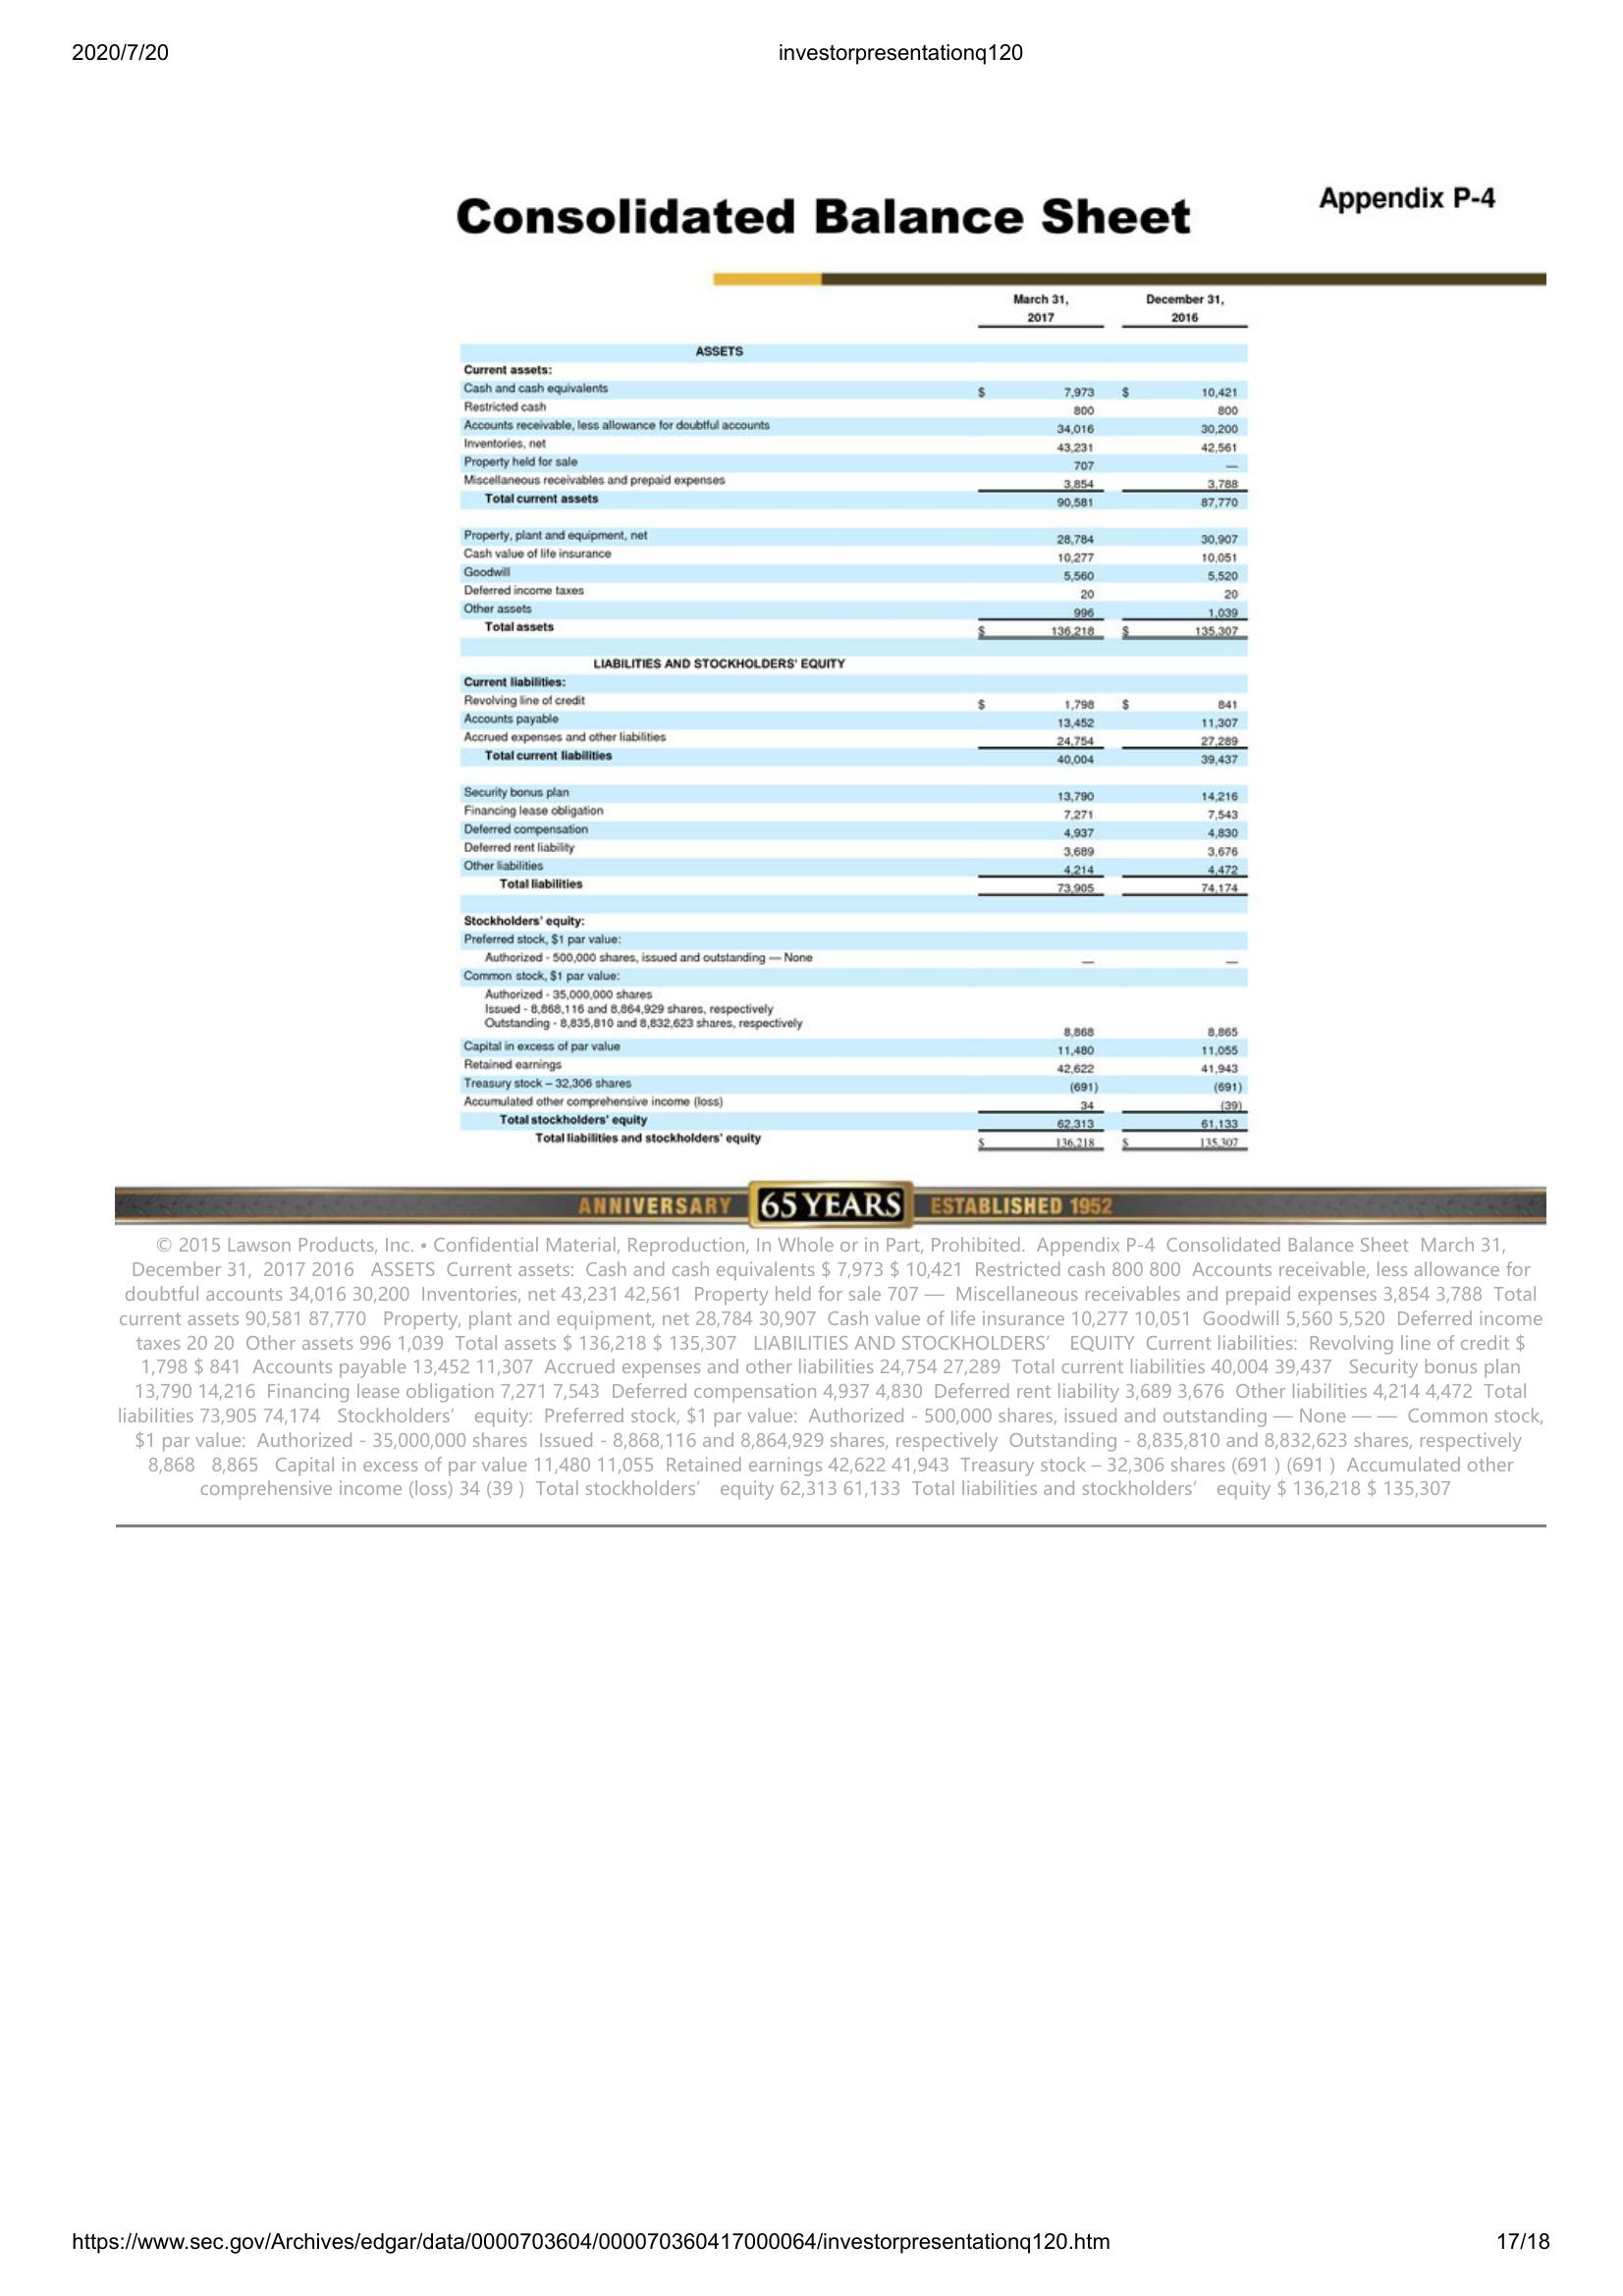table: (458, 316, 1259, 1155)
